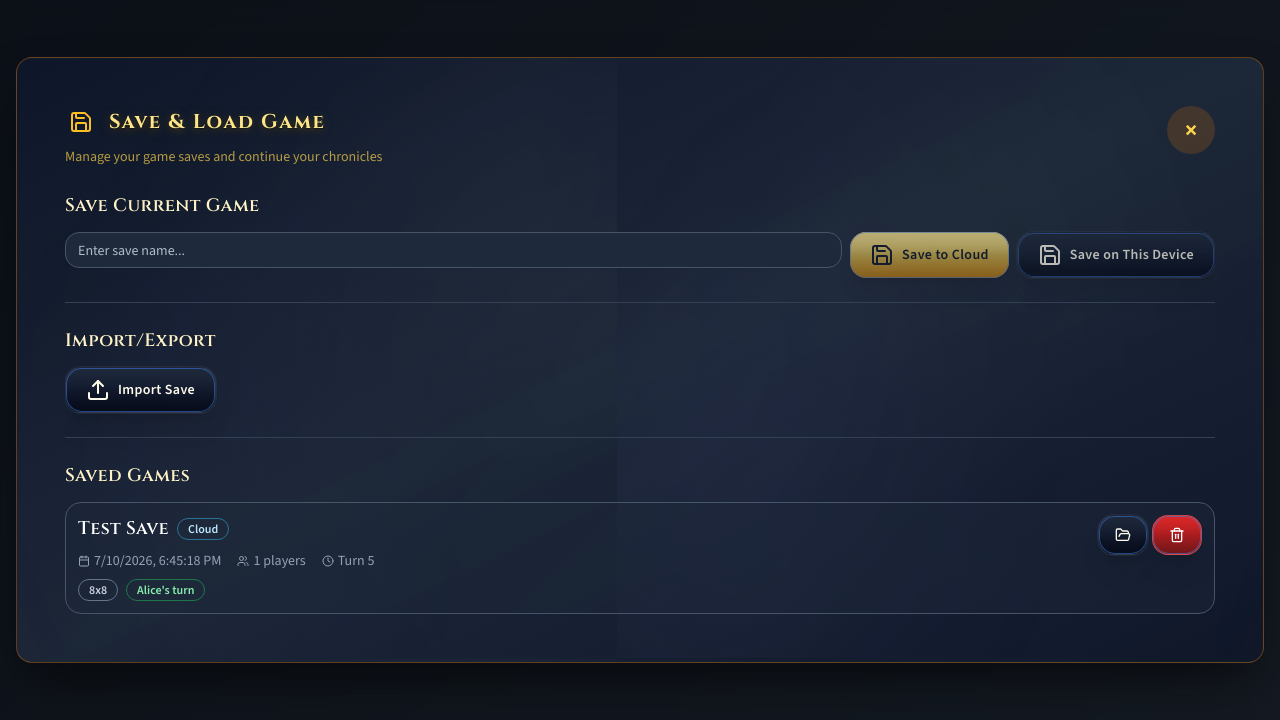
Test: SaveLoadMenu › shows import/export section and hides export until a save is selected
This screenshot has width=1280, height=720.
Check: the heading "Import/Export" is shown, box [65, 328, 216, 353]
Check: the text "Import Save" is shown, box [86, 378, 195, 402]
Click the heading "Test Save": (124, 529) [78, 515, 169, 543]
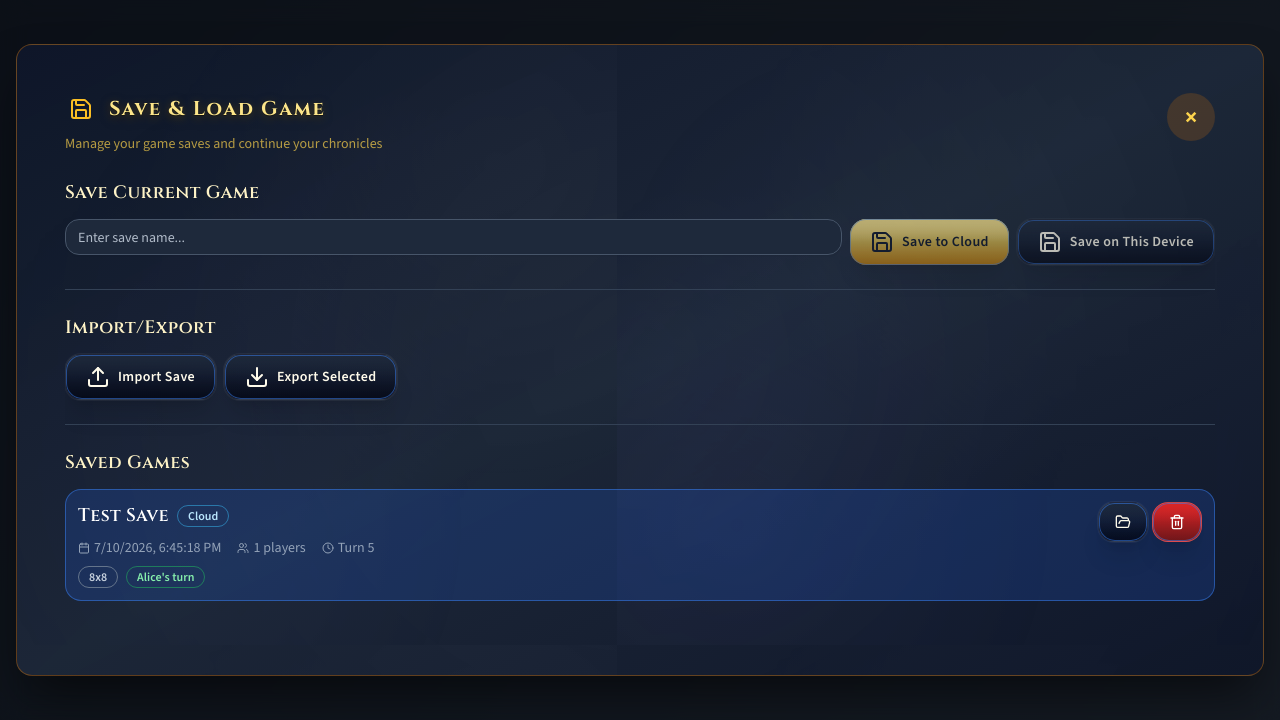
Check: the text "Export Selected" is shown, box [245, 365, 376, 389]
